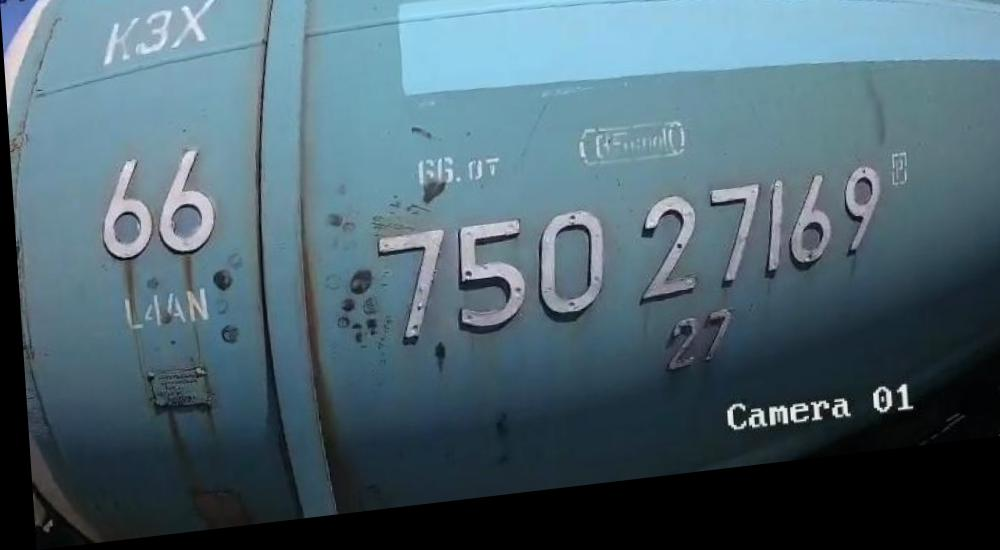Wagon-number: (366, 184, 887, 358)
